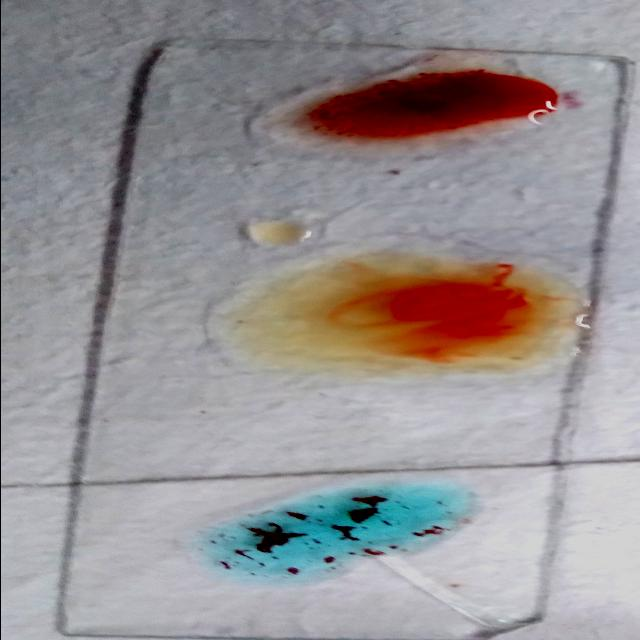A: (201, 482, 485, 584)
D: (270, 69, 586, 159)
